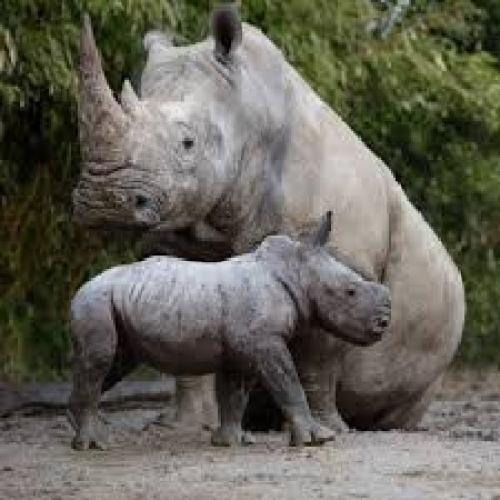rhino-endangered: (73, 5, 469, 439), (61, 209, 393, 450)
